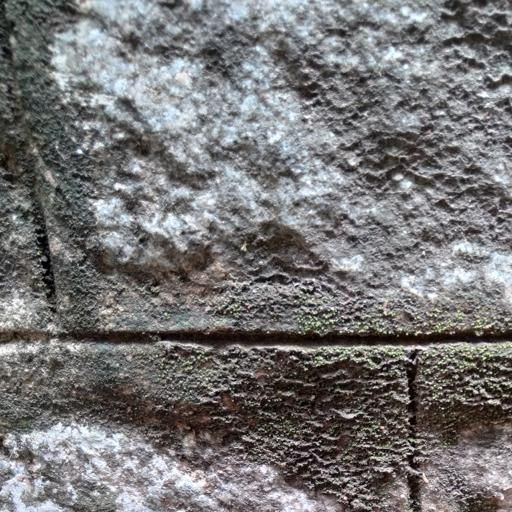algae: (5, 242, 512, 507)
